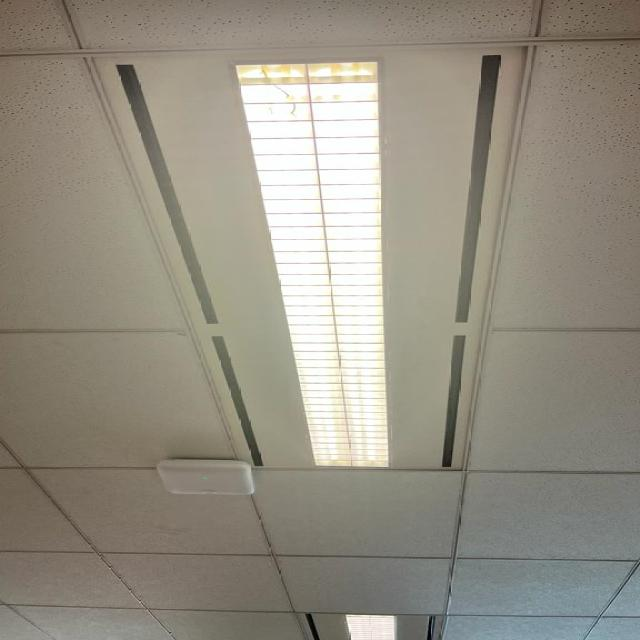Light-Opened: (67, 41, 540, 471)
